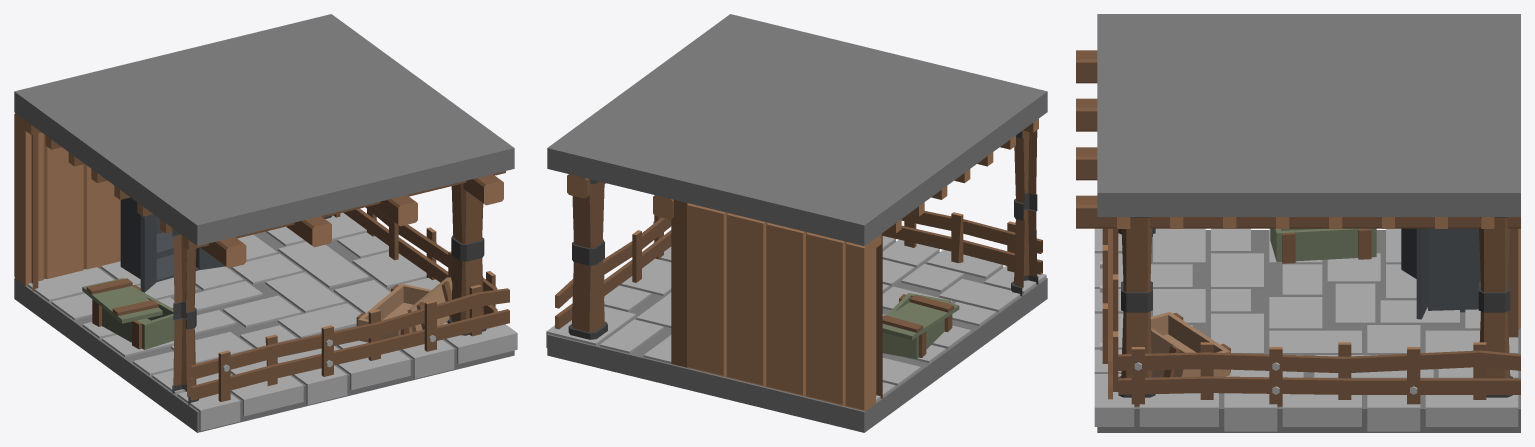
Rendered from WeaponStorage_Lvl_02_Corner_Right.fbx.
The picture shows the model from 3 angles, left to right: view 1: azimuth 30°, elevation 25°; view 2: azimuth 150°, elevation 25°; view 3: azimuth 270°, elevation 25°; orthographic projection. The views are drawn at different scales.
Parts seen in each view (by area): view 1: WeaponStorage_Lvl_02_Corner_Right; view 2: WeaponStorage_Lvl_02_Corner_Right; view 3: WeaponStorage_Lvl_02_Corner_Right.
Boxes of the visible parts, <box> form: WeaponStorage_Lvl_02_Corner_Right: <box>14,14,517,432</box>; WeaponStorage_Lvl_02_Corner_Right: <box>546,14,1047,432</box>; WeaponStorage_Lvl_02_Corner_Right: <box>1076,14,1520,432</box>.
Size of the model in its own units: 8.05 by 5 by 8.4.
